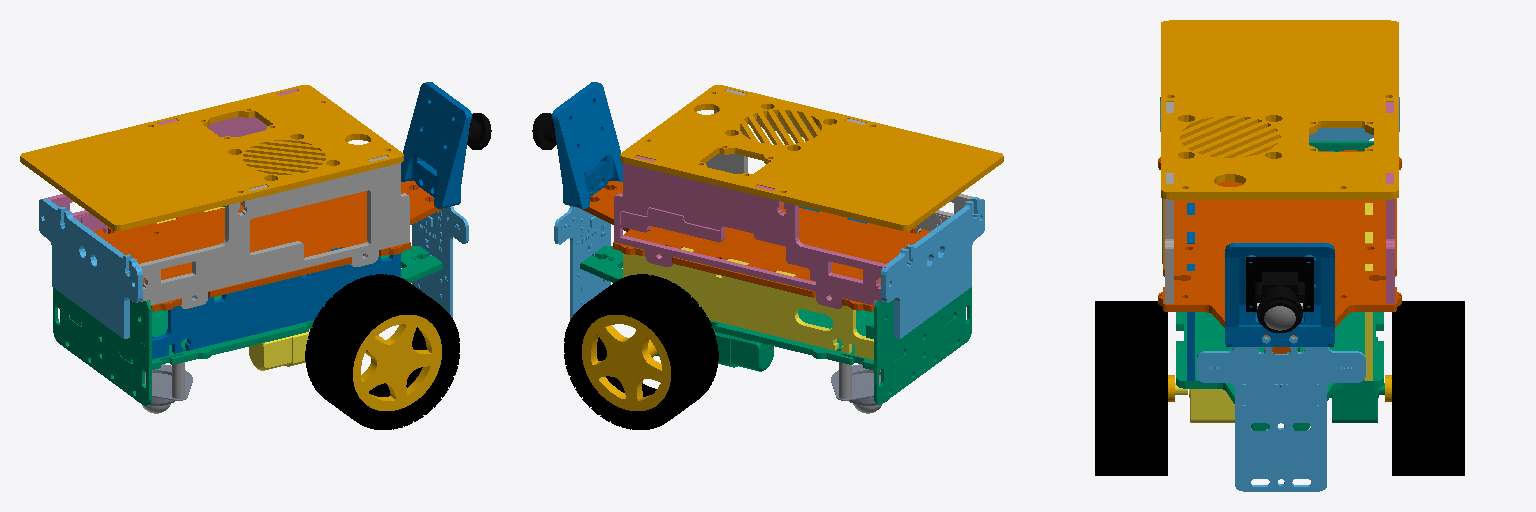
robot.urdf — duckiebot:
<?xml version="1.0" ?>
<!-- =================================================================================== -->
<!-- |    This document was autogenerated by xacro from duckiebot.urdf.xacro           | -->
<!-- |    EDITING THIS FILE BY HAND IS NOT RECOMMENDED                                 | -->
<!-- =================================================================================== -->
<robot name="duckiebot">
  <!--
    Required arguments are:

        - veh:      Vehicle name (e.g., autobot04)
        - model:    Robot configuration (e.g., DB18)

    -->
  <!-- START: Duckiebot -->
  <!-- START: Duckiebot: DB21X -->
  <!-- ~/footprint is located at the projection of the wheels axis' center on the ground -->
  <link name="david/footprint"/>
  <!-- /base link is attached to the bottom of the bottom plate -->
  <link name="david/base"/>
  <joint name="david_footprint_to_base" type="fixed">
    <parent link="david/footprint"/>
    <child link="david/base"/>
    <origin xyz="0 0 0.042"/>
  </joint>
  <!-- bottom plate -->
  <link name="david/bottom_plate">
    <visual>
      <origin xyz="0 0 -0.003"/>
      <geometry>
        <mesh filename="package://duckietown/urdf/meshes/duckiebot/DB21M/bottom_plate.obj"/>
      </geometry>
    </visual>
  </link>
  <joint name="david_base_to_bottom_plate" type="fixed">
    <parent link="david/base"/>
    <child link="david/bottom_plate"/>
    <origin xyz="0 0 0.003"/>
  </joint>
  <!-- side plate (left) -->
  <link name="david/side_plate_left">
    <visual>
      <geometry>
        <mesh filename="package://duckietown/urdf/meshes/duckiebot/DB21M/side_plate_left.obj"/>
      </geometry>
    </visual>
  </link>
  <joint name="david_bottom_plate_to_side_plate_left" type="fixed">
    <parent link="david/bottom_plate"/>
    <child link="david/side_plate_left"/>
    <origin xyz="-0.001 0.034 0"/>
  </joint>
  <!-- side plate (right) -->
  <link name="david/side_plate_right">
    <visual>
      <geometry>
        <mesh filename="package://duckietown/urdf/meshes/duckiebot/DB21M/side_plate_right.obj"/>
      </geometry>
    </visual>
  </link>
  <joint name="david_bottom_plate_to_side_plate_right" type="fixed">
    <parent link="david/bottom_plate"/>
    <child link="david/side_plate_right"/>
    <origin xyz="-0.001 -0.034 0"/>
  </joint>
  <!-- top plate -->
  <link name="david/top_plate">
    <visual>
      <origin xyz="0 0 -0.003"/>
      <geometry>
        <mesh filename="package://duckietown/urdf/meshes/duckiebot/DB21M/top_plate.obj"/>
      </geometry>
    </visual>
  </link>
  <joint name="david_bottom_plate_to_top_plate" type="fixed">
    <parent link="david/bottom_plate"/>
    <child link="david/top_plate"/>
    <origin xyz="0 0 0.031"/>
  </joint>
  <!-- side cover (left) -->
  <link name="david/side_cover_left">
    <visual>
      <geometry>
        <mesh filename="package://duckietown/urdf/meshes/duckiebot/DB21M/side_cover_left.obj"/>
      </geometry>
    </visual>
  </link>
  <joint name="david_top_plate_to_side_cover_left" type="fixed">
    <parent link="david/top_plate"/>
    <child link="david/side_cover_left"/>
    <origin xyz="-0.001 0.042 0"/>
  </joint>
  <!-- side cover (right) -->
  <link name="david/side_cover_right">
    <visual>
      <geometry>
        <mesh filename="package://duckietown/urdf/meshes/duckiebot/DB21M/side_cover_right.obj"/>
      </geometry>
    </visual>
  </link>
  <joint name="david_top_plate_to_side_cover_right" type="fixed">
    <parent link="david/top_plate"/>
    <child link="david/side_cover_right"/>
    <origin xyz="-0.001 -0.042 0"/>
  </joint>
  <!-- interaction plate -->
  <link name="david/interaction_plate">
    <visual>
      <origin xyz="0 0 -0.003"/>
      <geometry>
        <mesh filename="package://duckietown/urdf/meshes/duckiebot/DB21M/interaction_plate.obj"/>
      </geometry>
    </visual>
  </link>
  <joint name="david_top_plate_to_interaction_plate" type="fixed">
    <parent link="david/top_plate"/>
    <child link="david/interaction_plate"/>
    <origin xyz="0 0 0.044"/>
  </joint>
  <!-- hat plate -->
  <link name="david/hat_support">
    <visual>
      <geometry>
        <mesh filename="package://duckietown/urdf/meshes/duckiebot/DB21M/hat_support.obj"/>
      </geometry>
    </visual>
  </link>
  <joint name="david_top_plate_to_hat_support" type="fixed">
    <parent link="david/top_plate"/>
    <child link="david/hat_support"/>
    <origin xyz="-0.12 0 0.01"/>
  </joint>
  <!-- left motor -->
  <link name="david/left_motor">
    <visual>
      <geometry>
        <mesh filename="package://duckietown/urdf/meshes/duckiebot/DB21M/motor.obj"/>
      </geometry>
    </visual>
  </link>
  <joint name="david_base_to_left_motor" type="fixed">
    <parent link="david/base"/>
    <child link="david/left_motor"/>
    <origin xyz="0 0.026 -0.01"/>
  </joint>
  <!-- right motor -->
  <link name="david/right_motor">
    <visual>
      <geometry>
        <mesh filename="package://duckietown/urdf/meshes/duckiebot/DB21M/motor.obj"/>
      </geometry>
    </visual>
  </link>
  <joint name="david_base_to_right_motor" type="fixed">
    <parent link="david/base"/>
    <child link="david/right_motor"/>
    <origin xyz="0 -0.026 -0.01"/>
  </joint>
  <!-- left wheel -->
  <link name="david/left_wheel_axis"/>
  <joint name="david_left_motor_to_left_wheel" type="fixed">
    <parent link="david/left_motor"/>
    <child link="david/left_wheel_axis"/>
    <origin xyz="0 0.015 0"/>
  </joint>
  <link name="david/left_wheel">
    <visual>
      <origin rpy="0 0 3.141592653589793"/>
      <geometry>
        <mesh filename="package://duckietown/urdf/meshes/duckiebot/DB18/wheel.dae"/>
      </geometry>
    </visual>
  </link>
  <joint name="david_left_wheel_axis_to_left_wheel" type="continuous">
    <parent link="david/left_wheel_axis"/>
    <child link="david/left_wheel"/>
    <axis xyz="0 1 0"/>
  </joint>
  <!-- right wheel -->
  <link name="david/right_wheel_axis"/>
  <joint name="david_right_motor_to_right_wheel" type="fixed">
    <parent link="david/right_motor"/>
    <child link="david/right_wheel_axis"/>
    <origin xyz="0 -0.015 0"/>
  </joint>
  <link name="david/right_wheel">
    <visual>
      <geometry>
        <mesh filename="package://duckietown/urdf/meshes/duckiebot/DB18/wheel.dae"/>
      </geometry>
    </visual>
  </link>
  <joint name="david_right_wheel_axis_to_right_wheel" type="continuous">
    <parent link="david/right_wheel_axis"/>
    <child link="david/right_wheel"/>
    <axis xyz="0 1 0"/>
  </joint>
  <!-- caster wheel -->
  <link name="david/caster_wheel">
    <visual>
      <geometry>
        <mesh filename="package://duckietown/urdf/meshes/duckiebot/DB18/caster_wheel.dae"/>
      </geometry>
    </visual>
  </link>
  <joint name="david_bottom_plate_to_caster_wheel" type="fixed">
    <parent link="david/bottom_plate"/>
    <child link="david/caster_wheel"/>
    <origin xyz="-0.085 0 -0.003"/>
  </joint>
  <!-- front bumper -->
  <link name="david/front_bumper">
    <visual>
      <geometry>
        <mesh filename="package://duckietown/urdf/meshes/duckiebot/DB21M/front_bumper.obj"/>
      </geometry>
    </visual>
  </link>
  <joint name="david_top_plate_to_front_bumper" type="fixed">
    <parent link="david/top_plate"/>
    <child link="david/front_bumper"/>
    <origin xyz="0.057 0 0"/>
  </joint>
  <!-- back bumper -->
  <link name="david/back_bumper">
    <visual>
      <geometry>
        <mesh filename="package://duckietown/urdf/meshes/duckiebot/DB21M/back_bumper.obj"/>
      </geometry>
    </visual>
  </link>
  <joint name="david_top_plate_to_back_bumper" type="fixed">
    <parent link="david/top_plate"/>
    <child link="david/back_bumper"/>
    <origin rpy="0 0 3.141592653589793" xyz="-0.113 0 0"/>
  </joint>
  <!-- tag mount -->
  <link name="david/tag_mount"/>
  <joint name="david_interaction_plate_to_tag_mount" type="fixed">
    <parent link="david/interaction_plate"/>
    <child link="david/tag_mount"/>
    <origin rpy="3.141592653589793 0 -1.5707963267948966" xyz="-0.084 0 0"/>
  </joint>
  <!-- camera mount -->
  <link name="david/camera_mount">
    <visual>
      <geometry>
        <mesh filename="package://duckietown/urdf/meshes/duckiebot/DB21M/camera_mount.obj"/>
      </geometry>
    </visual>
  </link>
  <joint name="david_top_plate_to_camera_mount" type="fixed">
    <parent link="david/top_plate"/>
    <child link="david/camera_mount"/>
    <origin xyz="0.058 0 0"/>
  </joint>
  <!-- camera support -->
  <link name="david/camera_support"/>
  <joint name="david_camera_mount_to_camera_support" type="fixed">
    <parent link="david/camera_mount"/>
    <child link="david/camera_support"/>
    <origin xyz="0.006 0 0.028"/>
  </joint>
  <!-- camera frame -->
  <link name="david/camera_frame">
    <visual>
      <geometry>
        <mesh filename="package://duckietown/urdf/meshes/duckiebot/DB18/fish_eye_camera.dae"/>
      </geometry>
    </visual>
  </link>
  <!-- TODO: this should not be fixed (floating), rotation should be computed from the extrinsics calibration of the camera -->
  <joint name="david_camera_support_to_camera_frame" type="fixed">
    <parent link="david/camera_support"/>
    <child link="david/camera_frame"/>
    <origin rpy="0 0.26 0"/>
  </joint>
  <!-- camera optical frame -->
  <link name="david/camera_optical_frame"/>
  <joint name="david_camera_frame_to_camera_optical_frame" type="fixed">
    <parent link="david/camera_frame"/>
    <child link="david/camera_optical_frame"/>
    <origin rpy="-1.5707963267948966 0 -1.5707963267948966" xyz="0.017 0 0"/>
  </joint>
  <!-- END: Duckiebot: DB21X -->
  <!-- END: Duckiebot -->
</robot>

--- Facts derived from the render (not from the file) ---
3 views of the same robot in one strip: view 1: azimuth 30°, elevation 25°; view 2: azimuth 150°, elevation 25°; view 3: azimuth 270°, elevation 25° (orthographic).
Model duckiebot with 24 links and 23 joints (2 continuous, 21 fixed), rooted at david/footprint, posed all joints at 0.
Links seen in each view (by area): view 1: david/interaction_plate, david/right_wheel, david/side_cover_right, david/top_plate, david/side_plate_right, david/hat_support, david/camera_mount, david/back_bumper, david/bottom_plate, david/front_bumper, david/caster_wheel, david/side_cover_left (+2 smaller); view 2: david/interaction_plate, david/left_wheel, david/side_cover_left, david/top_plate, david/side_plate_left, david/hat_support, david/camera_mount, david/back_bumper, david/bottom_plate, david/front_bumper, david/caster_wheel, david/left_motor (+2 smaller); view 3: david/interaction_plate, david/top_plate, david/front_bumper, david/left_wheel, david/right_wheel, david/camera_mount, david/bottom_plate, david/camera_frame, david/left_motor, david/right_motor, david/side_cover_left, david/side_cover_right (+4 smaller).
Link boxes in pixels (x1,y1,x2,y2): david/interaction_plate: (20,85,403,230); david/right_wheel: (305,274,459,429); david/side_cover_right: (135,156,409,308); david/top_plate: (93,181,443,311); david/side_plate_right: (152,247,400,359); david/hat_support: (39,199,142,338); david/camera_mount: (401,82,471,208); david/back_bumper: (53,288,151,405); david/bottom_plate: (70,246,442,369); david/front_bumper: (405,181,468,317); david/caster_wheel: (136,362,192,413); david/side_cover_left: (42,89,297,233); david/interaction_plate: (620,85,1003,230); david/left_wheel: (564,274,718,429); david/side_cover_left: (614,156,888,308); david/top_plate: (580,181,930,311); david/side_plate_left: (623,247,873,359); david/hat_support: (881,197,984,338); david/camera_mount: (552,82,622,208); david/back_bumper: (866,287,971,404); david/bottom_plate: (580,246,953,370); david/front_bumper: (554,181,618,319); david/caster_wheel: (831,362,887,413); david/left_motor: (656,328,773,371); david/interaction_plate: (1161,20,1398,199); david/top_plate: (1158,150,1401,353); david/front_bumper: (1197,336,1365,491); david/left_wheel: (1385,301,1464,475); david/right_wheel: (1095,301,1174,475); david/camera_mount: (1225,243,1334,346); david/bottom_plate: (1176,312,1383,430); david/camera_frame: (1246,257,1313,332); david/left_motor: (1330,337,1384,422); david/right_motor: (1175,383,1234,422); david/side_cover_left: (1386,102,1394,303); david/side_cover_right: (1165,102,1173,303).
Size in the robot's own frame: 0.2157 by 0.136 by 0.1204 metres.
17 mesh visuals loaded from 15 distinct referenced files (3 Collada DAE, 12 OBJ).
